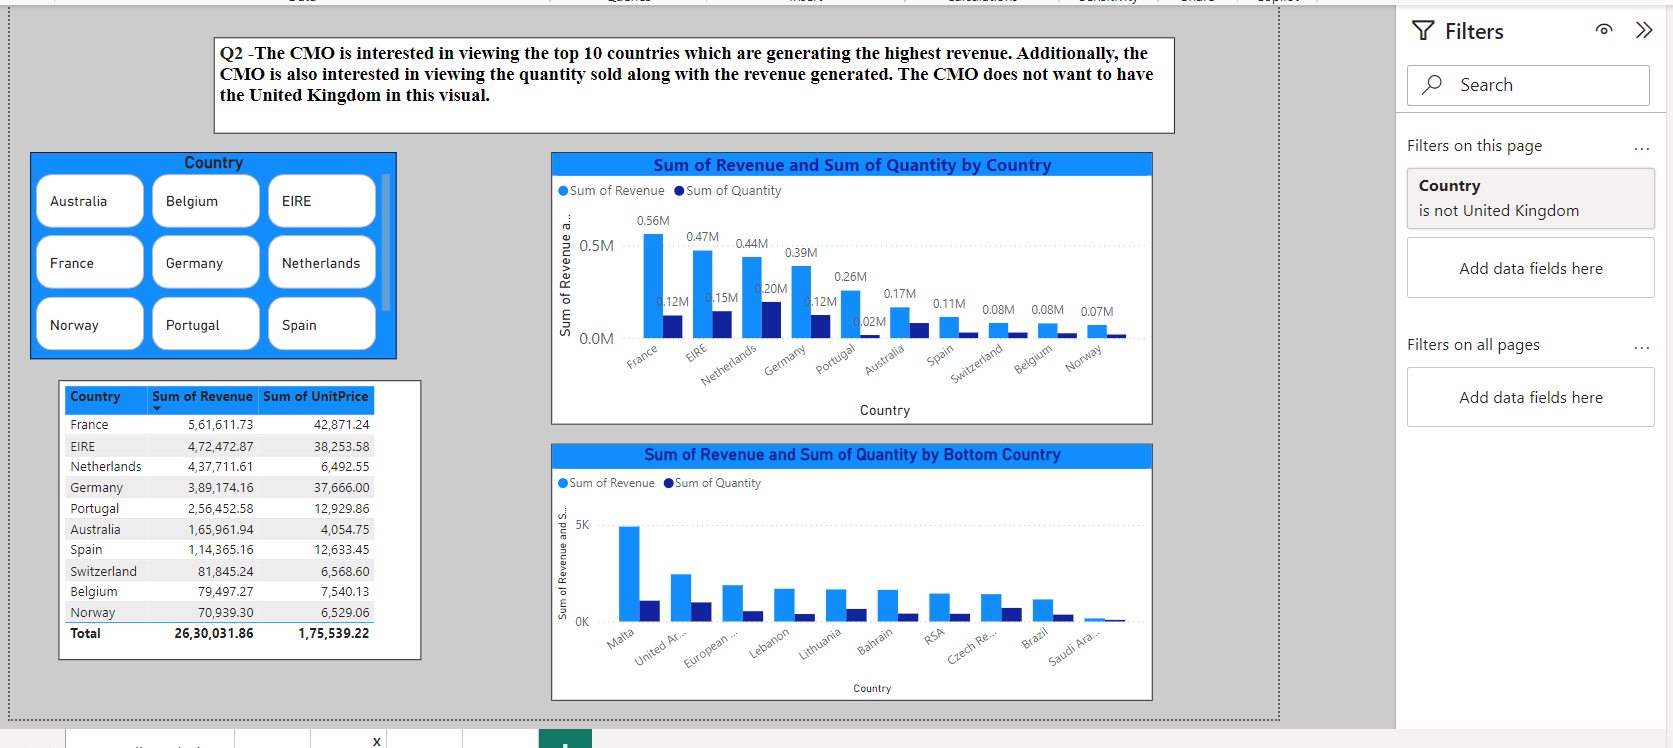

This screenshot's page, from the dashboard's own definition file:
{"tool":"powerbi","page":{"name":"Q2","canvas":[1280,720],"ordinal":2},"visuals":[{"type":"tableEx","fields":{"Values":["Online Retail.Country","Sum(Online Retail.Revenue )","Sum(Online Retail.UnitPrice)"]},"box":[49.3,379.2,365.6,282.3],"z":0},{"type":"clusteredColumnChart","fields":{"Category":["Online Retail.Country"],"Y":["Sum(Online Retail.Revenue )","Sum(Online Retail.Quantity)"]},"box":[545.9,148.2,606.7,274.5],"z":2000},{"type":"textbox","box":[205.8,32.3,969.3,96.9],"z":3000},{"type":"clusteredColumnChart","title":"Sum of Revenue and Sum of Quantity  by Bottom Country","fields":{"Y":["Sum(Online Retail.Revenue )","Sum(Online Retail.Quantity)"],"Category":["Online Retail.Country"]},"box":[545.9,442.9,606.7,258.9],"z":4000},{"type":"advancedSlicerVisual","fields":{"Values":["Online Retail.Country"]},"box":[20.3,148.2,369.6,209],"z":4001}]}

Visuals, with their boxes on the page's 1280x720 design canvas (x1, y1, x2, y2). These are canvas units, not pixel positions in the 1673x748 screenshot, which may show the page scaled, cropped or inside an application window:
tableEx - Online Retail.Country x Sum(Online Retail.Revenue ): <region>49, 379, 415, 662</region>
clusteredColumnChart - Online Retail.Country x Sum(Online Retail.Revenue ): <region>546, 148, 1153, 423</region>
textbox: <region>206, 32, 1175, 129</region>
"Sum of Revenue and Sum of Quantity  by Bottom Country" clusteredColumnChart: <region>546, 443, 1153, 702</region>
advancedSlicerVisual - Online Retail.Country: <region>20, 148, 390, 357</region>
